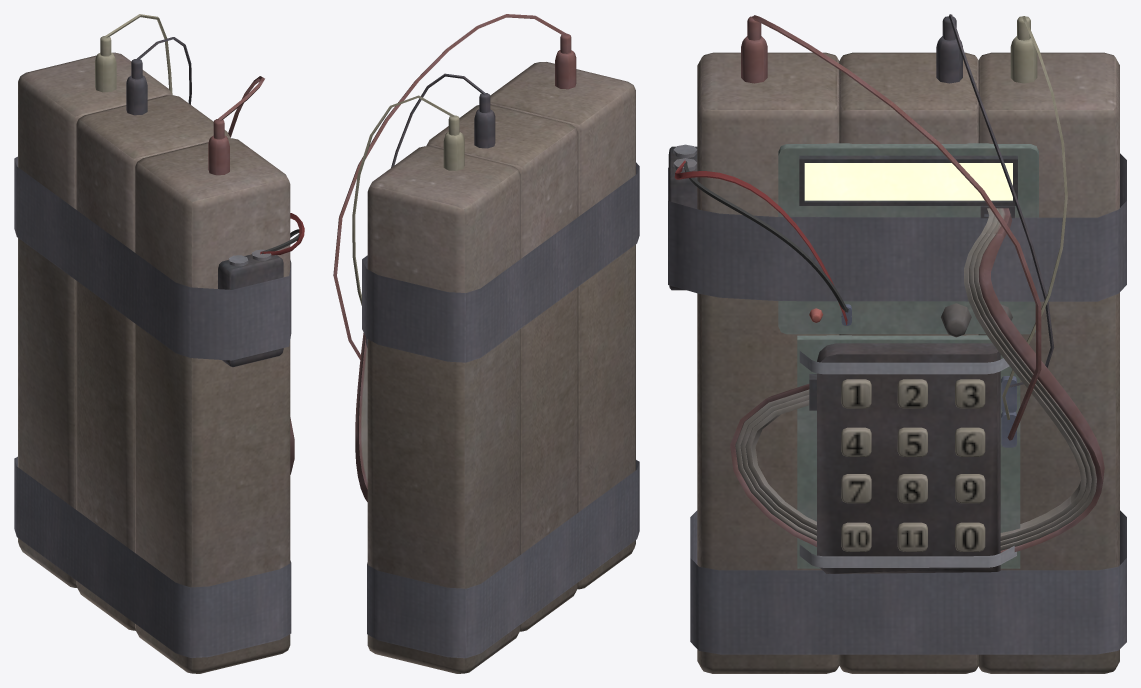
Rendered from Preview_Weapon.glb.
3 views of the same model, side by side, from view 1: azimuth 30°, elevation 25°; view 2: azimuth 150°, elevation 25°; view 3: azimuth 270°, elevation 25° (orthographic). The views are drawn at different scales.
Visible parts, largest first — view 1: Object_2; view 2: Object_2; view 3: Object_2.
Boxes of the visible parts, x1,y1,x2,y2 form: Object_2: [14, 14, 304, 673]; Object_2: [333, 14, 639, 673]; Object_2: [668, 14, 1126, 673].
Bounding box in the file's own units: 1.11 × 3.25 × 2.08.
Materials: 1 (1 with a texture image).
